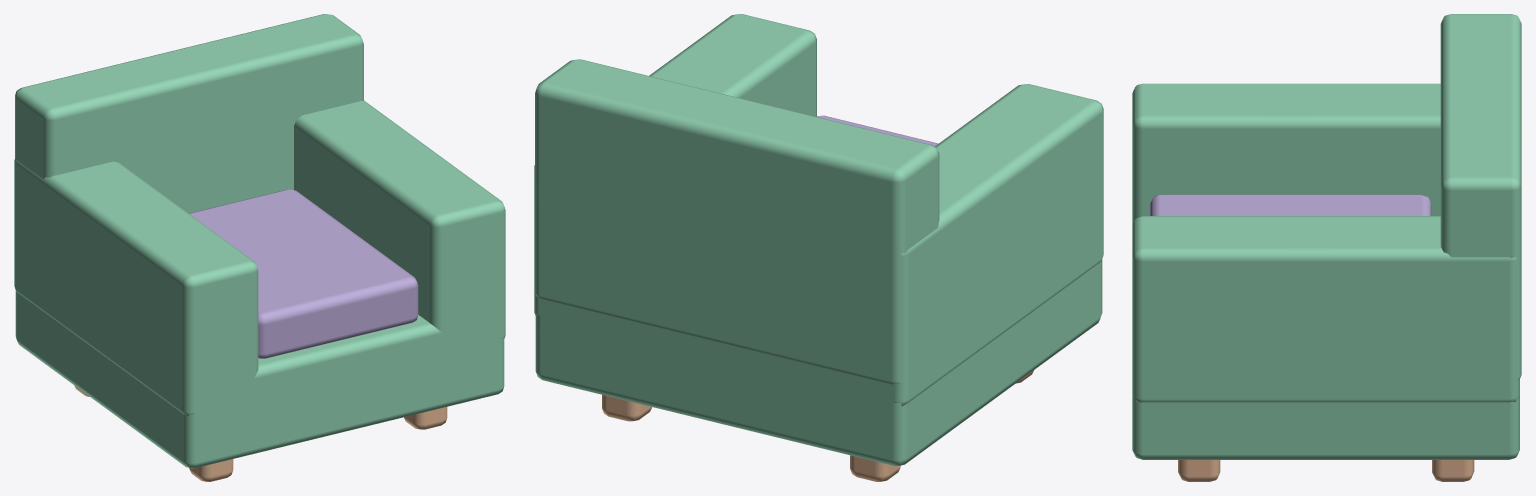
File: armchair.glb
3 views of the same model, side by side, from view 1: azimuth 30°, elevation 25°; view 2: azimuth 150°, elevation 25°; view 3: azimuth 270°, elevation 25° (orthographic). The views are drawn at different scales.
Parts seen in each view (by area): view 1: part (×7); view 2: part (×6); view 3: part (×7).
Part boxes in pixels (x1,y1,x2,y2): part (×7): (14,14,505,481); part (×6): (534,14,1103,481); part (×7): (1132,14,1521,481).
Bounding box in the file's own units: 1.16 × 1.01 × 1.11.
Materials: 1 (1 with a texture image).
